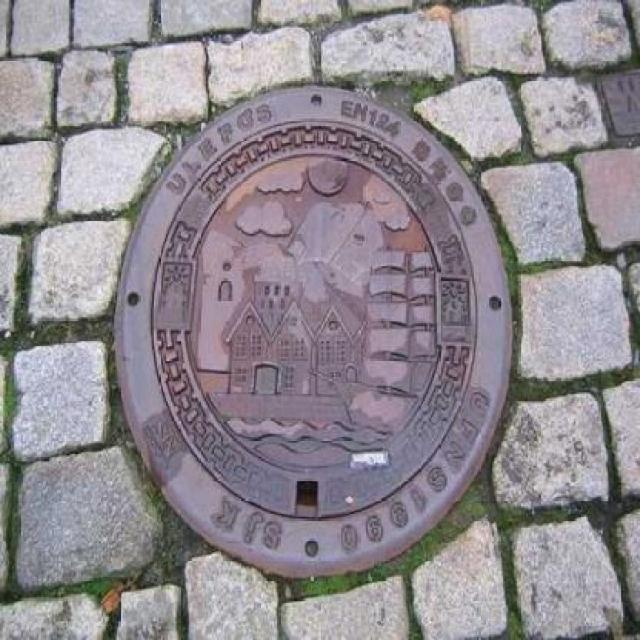Manhole: (108, 77, 522, 583)
